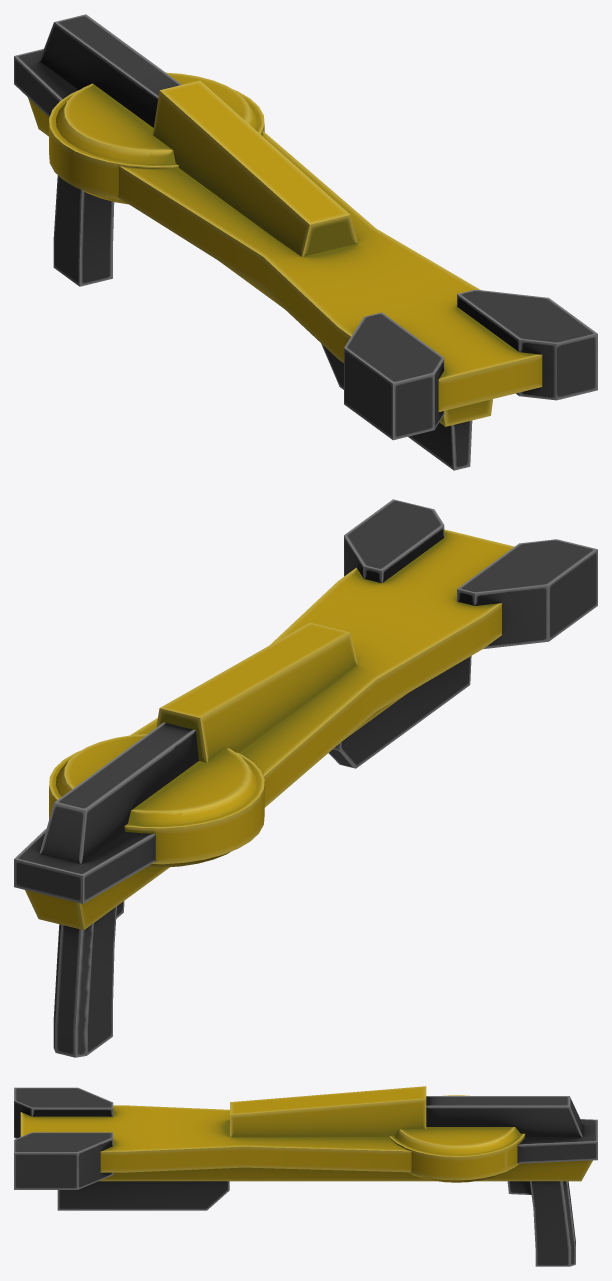
The model's file is diskshooter.glb.
3 renders of one model, top to bottom at view 1: azimuth 30°, elevation 25°; view 2: azimuth 150°, elevation 25°; view 3: azimuth 270°, elevation 25°, orthographic. The views are drawn at different scales.
Visible parts, largest first — view 1: Cube.021; view 2: Cube.021; view 3: Cube.021.
Part boxes in pixels (left/top/right/bottom): Cube.021: left=14, top=14, right=597, bottom=470; Cube.021: left=14, top=499, right=597, bottom=1057; Cube.021: left=14, top=1086, right=597, bottom=1266.
Size of the model in its own units: 0.3242 by 0.3909 by 1.22.
Materials: 1 (1 with a texture image).
